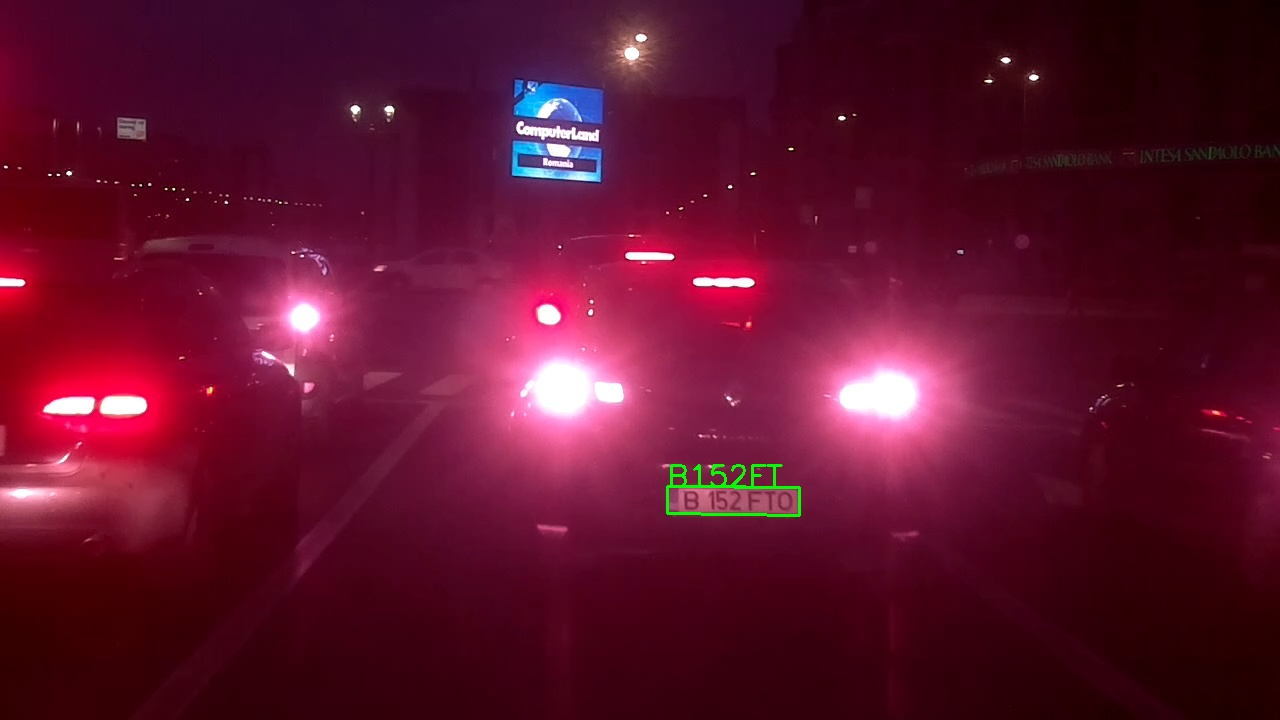license-plate: (666, 485, 801, 517)
